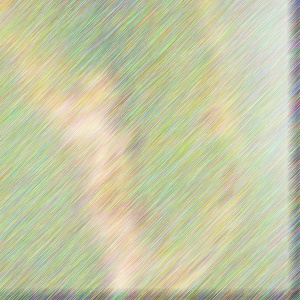Leaf_Blast: (37, 1, 231, 285)
